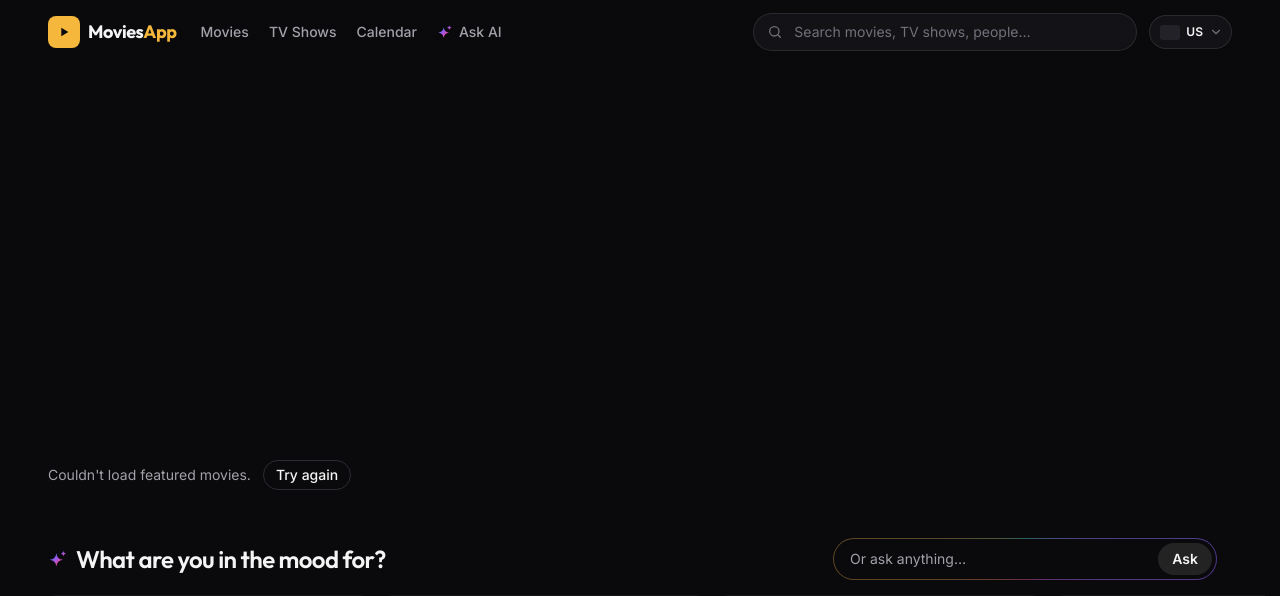
AI assistant › starts from the field in the home's mood row
Type "a short comedy" into the field named "Ask AI what to watch". click: (1000,559)
box: [850, 543, 1150, 575]
Then press Enter
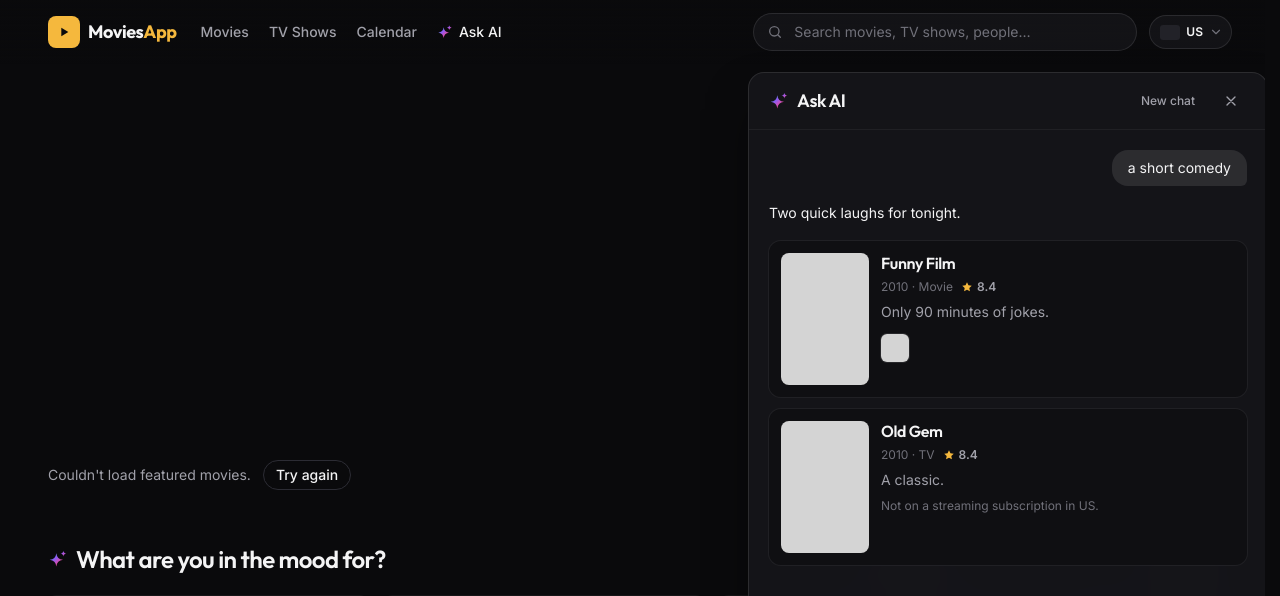
Expected: the text "Two quick laughs for tonight." is shown, [769, 204, 961, 221]
